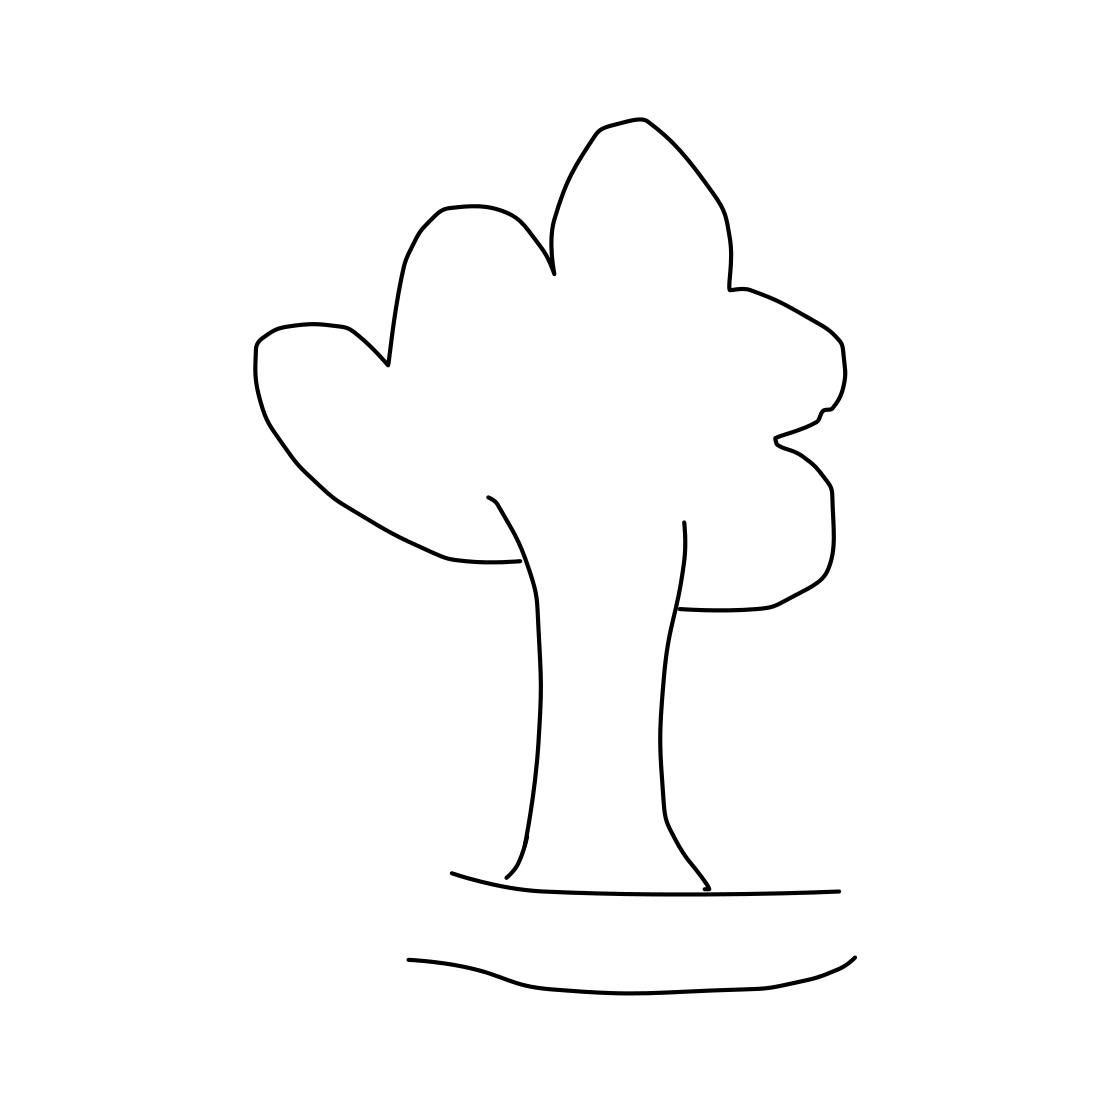Tree: (216, 95, 862, 907)
